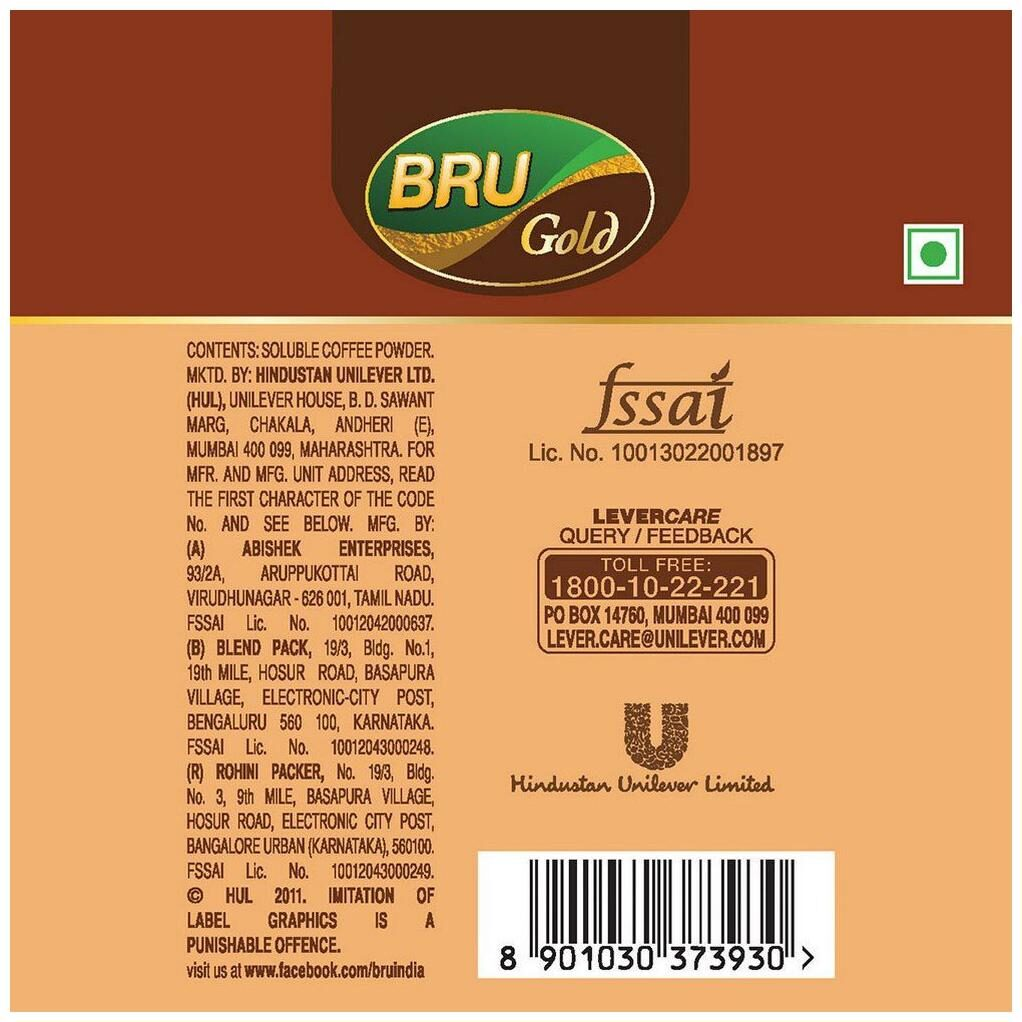fssai: (580, 361, 735, 434)
